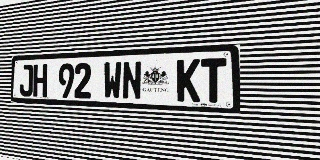2: (74, 63, 91, 99)
9: (58, 63, 74, 98)
H: (33, 64, 47, 97)
J: (19, 64, 33, 97)
K: (177, 59, 200, 102)
N: (122, 61, 142, 100)
T: (201, 58, 226, 103)
W: (103, 61, 122, 100)
